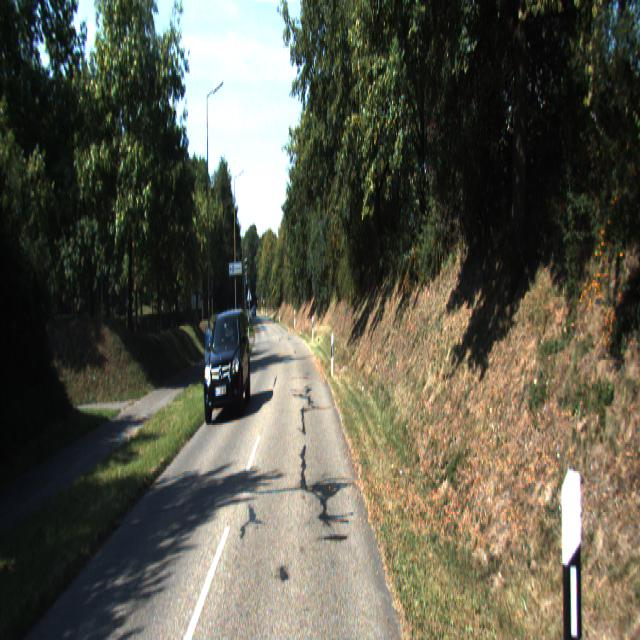Car: (203, 306, 252, 426)
